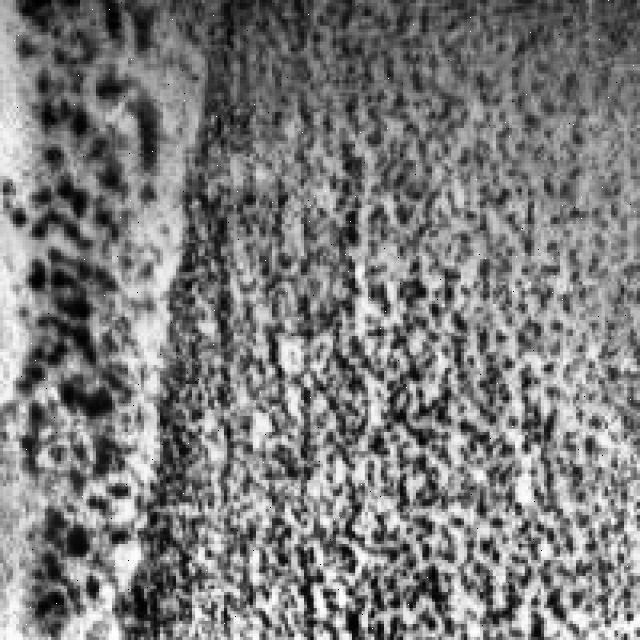Rolled_in_Scale: (150, 3, 630, 630), (0, 0, 160, 586)
